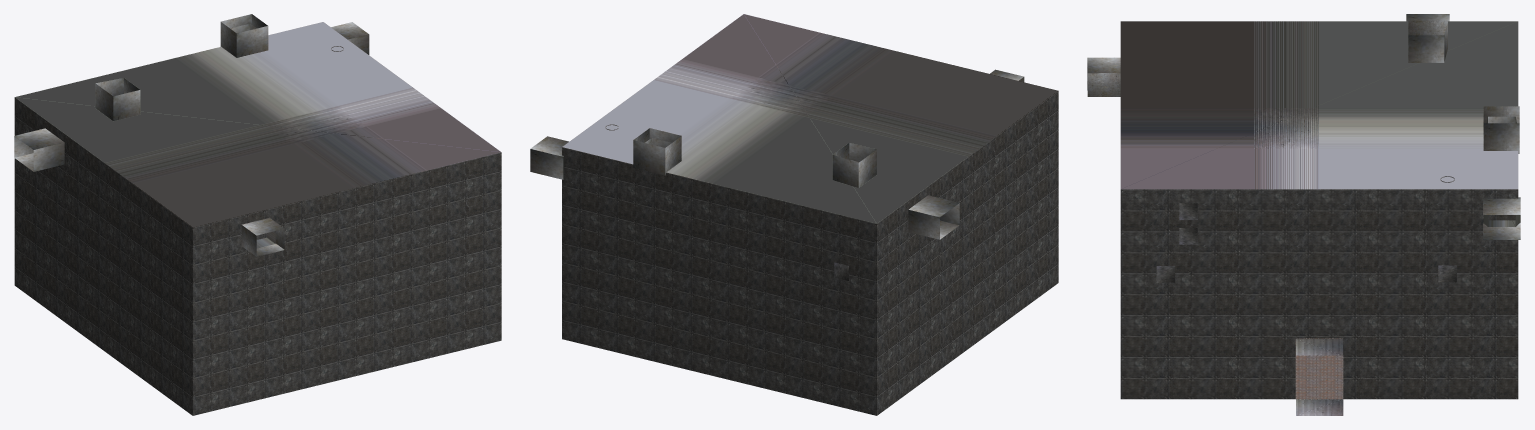
Rendered from room_0.fbx.
3 views of the same model, side by side, from view 1: azimuth 30°, elevation 25°; view 2: azimuth 150°, elevation 25°; view 3: azimuth 270°, elevation 25° (orthographic). The views are drawn at different scales.
Visible parts, largest first — view 1: Plane.002, Plane.004, Plane.001; view 2: Plane.002, Plane.004, Plane.001; view 3: Plane.002, Plane.004, Plane.001, Plane, Plane.005.
Part boxes in pixels (x1,y1,x2,y2): Plane.002: [14, 97, 501, 415]; Plane.004: [15, 22, 500, 227]; Plane.001: [14, 14, 369, 256]; Plane.002: [562, 91, 1058, 415]; Plane.004: [562, 14, 1058, 223]; Plane.001: [530, 69, 1024, 239]; Plane.002: [1120, 189, 1518, 399]; Plane.004: [1120, 21, 1518, 189]; Plane.001: [1087, 14, 1520, 239]; Plane: [1295, 338, 1343, 399]; Plane.005: [1296, 339, 1343, 415].
Size of the model in its own units: 1201 by 661 by 1090.
Materials: 6 (6 with a texture image).
